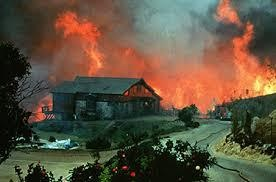fire: (103, 14, 274, 115)
